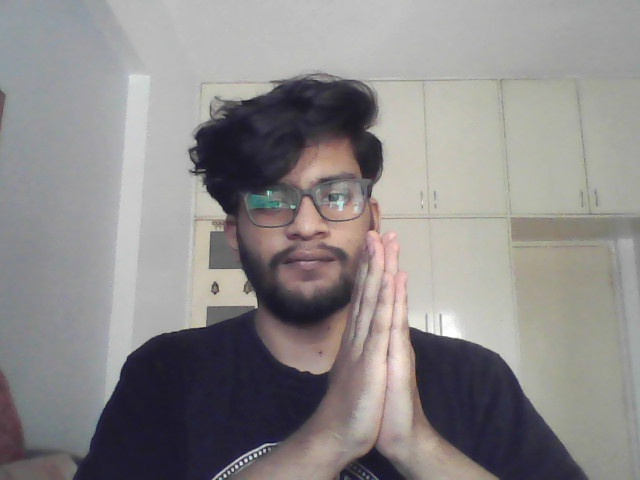Namaskara: (332, 227, 427, 470)
